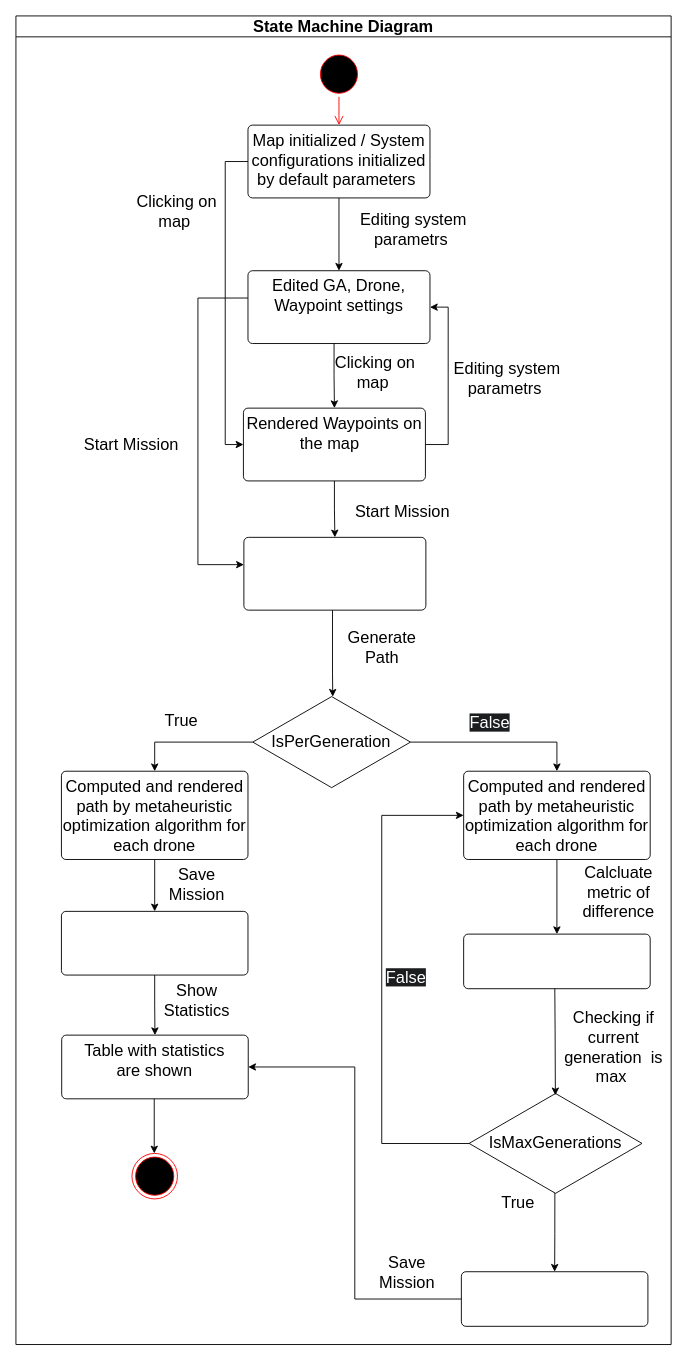
The diagram is 689 pixels wide and 1360 high, and some of its shapes have lost their labels. Here are the shapes that lost their labels. From the top down, the centre of each, then its label:
At (x=334, y=573): "System Parameters stored in database".
At (x=154, y=942): "Results and statistics stored in database".
At (x=556, y=961): "Difference between generation is shown".
At (x=554, y=1298): "Path of last generation is rendered".
